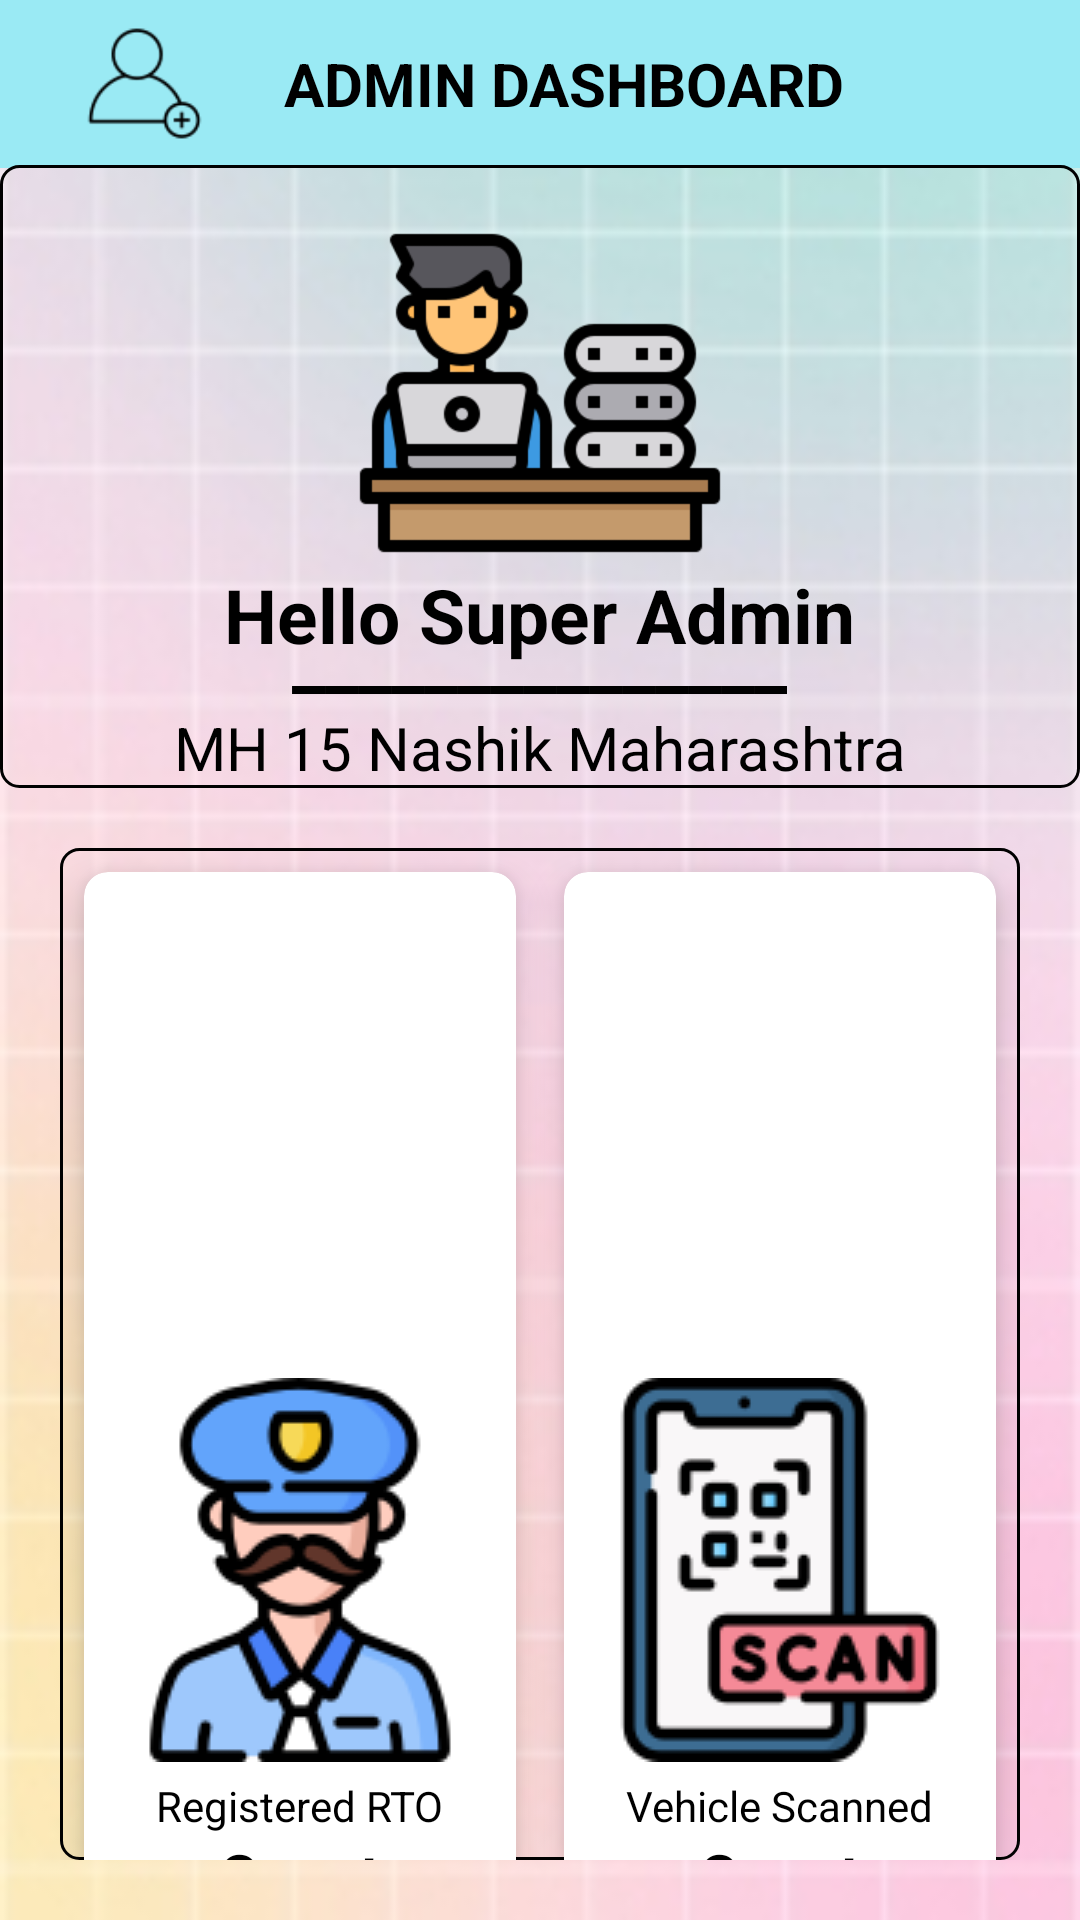

Locate icon controls on the screen. Image size 1080 × 1920, boxes as (x1=x1, y1=y1, x2=x2, y2=y2).
adduser: (x1=88, y1=28, x2=201, y2=139)
